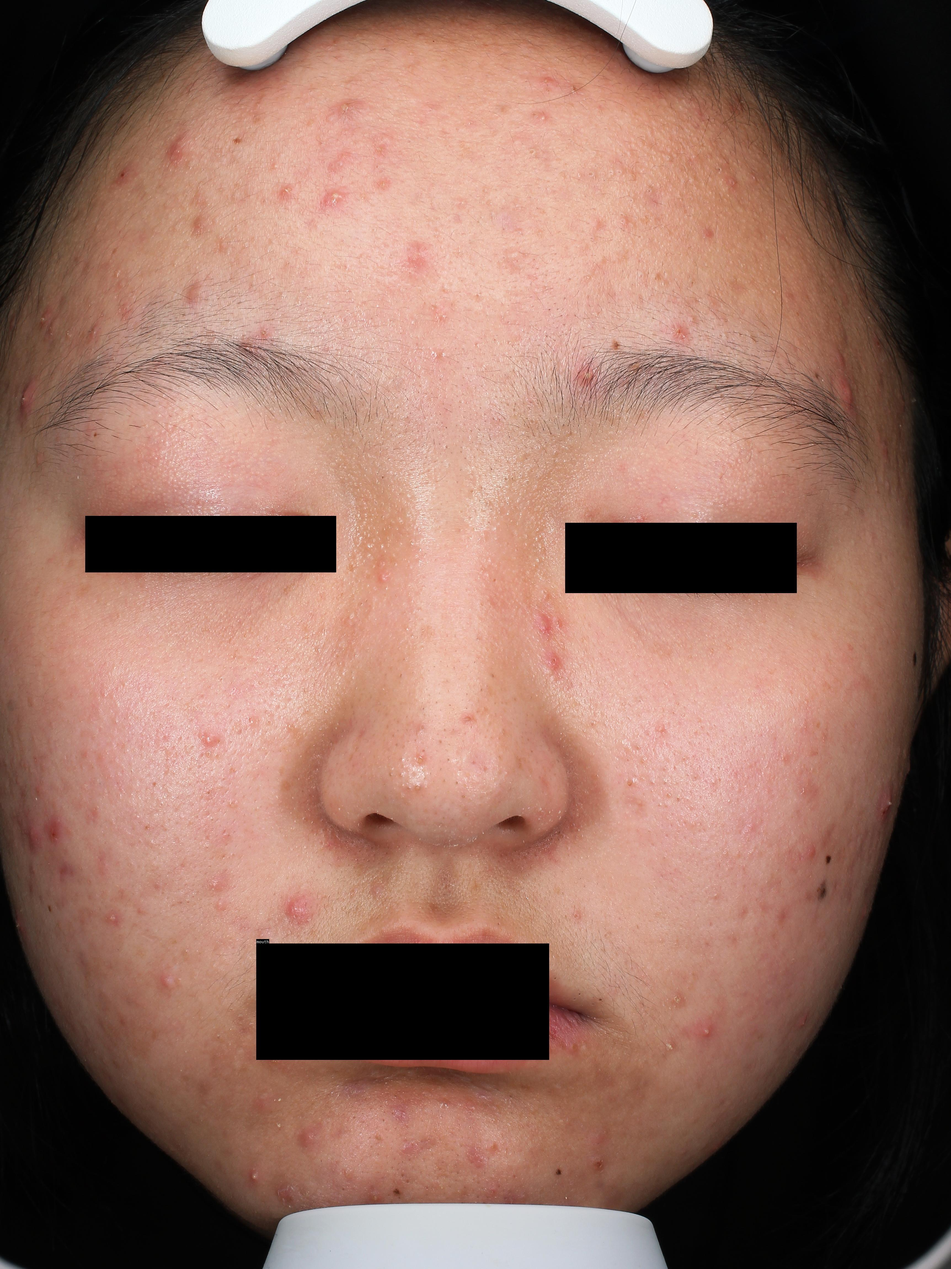closed_comedo: (379, 133, 392, 145), (508, 249, 520, 261), (186, 159, 197, 170), (248, 717, 259, 727), (348, 612, 356, 621), (721, 330, 730, 338), (513, 139, 523, 146), (326, 114, 334, 122), (102, 689, 109, 698), (114, 270, 122, 277), (119, 280, 126, 288), (65, 329, 72, 337), (576, 243, 583, 250), (666, 154, 672, 161), (410, 319, 416, 326), (458, 201, 466, 206), (886, 481, 890, 490), (577, 173, 583, 179), (503, 771, 509, 777), (345, 266, 350, 272), (712, 779, 717, 785), (272, 164, 278, 169), (690, 177, 694, 184), (4, 759, 8, 766), (851, 540, 856, 545), (409, 51, 413, 56), (659, 938, 663, 943), (636, 745, 640, 750), (693, 154, 696, 160), (845, 506, 848, 512), (690, 317, 694, 321), (468, 122, 472, 126), (112, 694, 116, 698), (714, 893, 717, 897), (173, 263, 176, 267)
hypertrophic_scar: (233, 1047, 245, 1073)
melasma: (816, 722, 820, 727)
nevus: (819, 883, 828, 899), (233, 137, 242, 143), (913, 652, 917, 665), (613, 340, 619, 348), (555, 1169, 562, 1175), (826, 856, 831, 863), (394, 1188, 400, 1193), (815, 372, 819, 379), (48, 905, 51, 912), (94, 432, 97, 438)
open_comedo: (260, 327, 270, 338), (688, 278, 697, 286), (413, 783, 421, 792), (528, 418, 536, 426), (204, 750, 212, 758), (530, 111, 538, 118), (615, 169, 624, 175), (651, 274, 658, 281), (214, 753, 221, 760), (517, 454, 524, 461), (529, 148, 535, 155), (626, 780, 632, 787), (525, 479, 531, 486), (215, 1034, 221, 1041), (501, 255, 507, 261), (637, 698, 643, 704), (464, 716, 471, 721), (230, 801, 235, 808), (380, 474, 385, 481), (420, 724, 425, 730), (469, 489, 475, 494), (512, 412, 518, 417), (398, 672, 403, 678), (359, 601, 364, 607), (454, 780, 459, 786), (716, 167, 721, 172), (376, 1135, 381, 1140), (151, 782, 156, 787), (475, 293, 480, 298), (682, 756, 687, 761), (667, 793, 672, 798), (210, 817, 215, 822), (461, 794, 466, 799), (589, 172, 594, 176), (491, 673, 495, 678), (493, 337, 497, 342), (421, 706, 426, 710), (341, 1187, 345, 1192), (407, 271, 412, 275), (647, 189, 651, 193), (629, 198, 633, 202), (620, 212, 624, 216), (639, 274, 643, 278), (590, 723, 594, 727), (219, 677, 223, 681), (497, 922, 501, 926), (590, 235, 593, 240), (408, 139, 411, 144), (621, 218, 624, 222), (568, 138, 572, 141), (406, 1180, 410, 1183), (233, 687, 236, 691), (578, 992, 581, 996), (604, 127, 607, 130), (610, 171, 613, 174), (482, 189, 485, 192), (401, 1174, 404, 1177), (554, 977, 557, 980), (599, 998, 602, 1001), (207, 791, 210, 794), (573, 998, 576, 1001), (621, 154, 624, 156), (632, 175, 634, 178), (310, 89, 312, 92), (376, 166, 378, 168), (384, 48, 386, 50), (592, 1003, 594, 1005)
papule: (287, 899, 311, 924), (838, 377, 853, 413), (409, 242, 428, 268), (49, 814, 64, 841), (169, 145, 181, 169), (187, 284, 202, 303), (535, 613, 548, 634), (29, 824, 39, 851), (282, 1187, 296, 1205), (267, 1051, 282, 1067), (470, 1150, 485, 1166), (46, 318, 58, 338), (114, 169, 129, 183), (161, 974, 174, 990), (301, 1130, 314, 1146), (835, 348, 845, 368), (592, 1131, 605, 1145), (88, 324, 99, 340), (857, 905, 866, 924), (211, 879, 224, 892), (675, 326, 686, 341), (541, 77, 557, 87), (331, 159, 345, 170), (121, 305, 132, 319), (194, 218, 205, 231), (433, 311, 447, 321), (257, 1100, 269, 1111), (592, 216, 602, 228), (550, 655, 558, 669), (808, 845, 816, 859), (594, 1158, 604, 1169), (343, 1169, 353, 1180), (397, 1110, 407, 1120), (655, 724, 666, 733), (876, 430, 883, 444), (883, 446, 889, 462), (556, 617, 563, 630), (377, 180, 386, 190), (216, 900, 226, 909), (746, 822, 755, 832), (373, 885, 382, 895), (432, 351, 443, 359), (35, 454, 43, 465), (9, 316, 15, 330), (402, 1143, 411, 1152), (489, 1187, 499, 1195), (489, 1142, 496, 1153), (506, 1197, 517, 1204), (905, 760, 910, 775), (728, 177, 736, 186), (378, 574, 386, 583), (570, 86, 578, 95), (542, 593, 550, 602), (573, 911, 582, 919), (704, 230, 714, 237), (220, 239, 226, 250), (520, 1193, 526, 1203), (375, 145, 383, 152), (36, 786, 41, 796), (378, 559, 385, 566), (621, 218, 628, 225), (15, 779, 22, 786), (571, 1045, 578, 1051), (751, 175, 755, 182)
pustule: (20, 381, 37, 420), (877, 785, 893, 817), (322, 190, 344, 206), (338, 102, 362, 116), (38, 308, 54, 328), (16, 913, 26, 935), (581, 367, 594, 383), (203, 734, 219, 746), (282, 185, 296, 198), (798, 1014, 808, 1028), (671, 995, 682, 1005), (701, 1025, 711, 1036), (415, 755, 426, 764), (250, 1171, 259, 1180), (665, 1043, 674, 1052), (370, 1194, 380, 1201), (439, 1102, 448, 1108), (109, 915, 116, 921), (276, 1123, 281, 1129), (541, 116, 546, 121), (277, 1097, 281, 1102), (471, 1106, 476, 1110)
